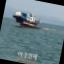fishing boat: (9, 8, 42, 30)
